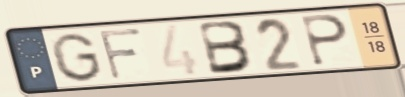2: (253, 15, 307, 72)
4: (159, 23, 203, 77)
B: (196, 19, 257, 77)
F: (96, 26, 145, 83)
G: (48, 31, 106, 84)
P: (298, 13, 350, 68)
